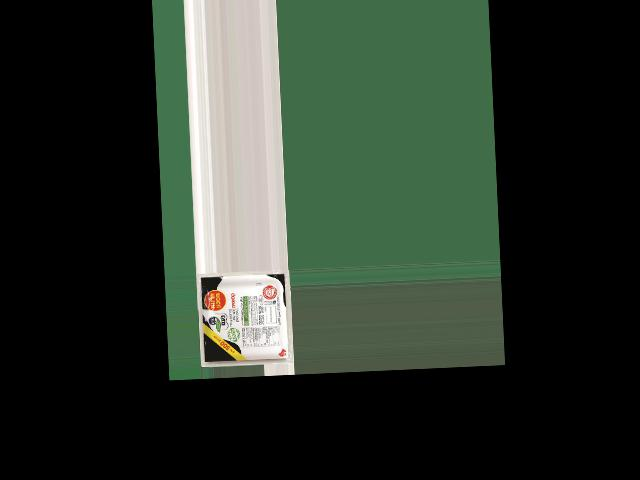cheese: (203, 272, 286, 366)
